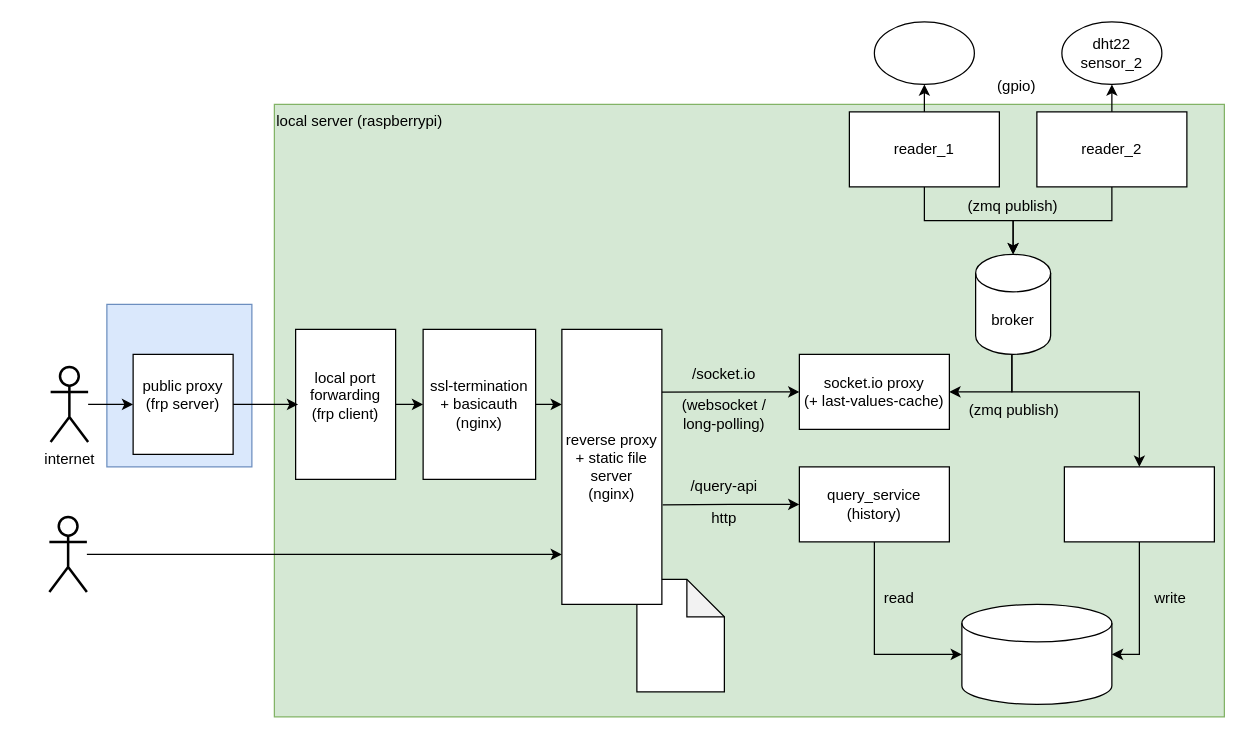
Image size: 1246x739. Some labels were removed from this diagram. The box of each missing label's shape, as (x1, y1, x2, y2) in pixels:
dht22 sensor_1: (873, 21, 974, 84)
home network: (48, 515, 88, 592)
html static files: (636, 578, 724, 692)
postgresql (timescaledb): (961, 603, 1112, 704)
public server: (106, 303, 252, 467)
storage_service: (1063, 466, 1214, 542)
